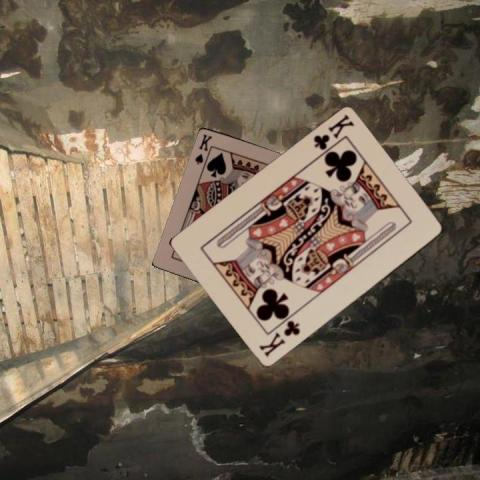Kc: (256, 318, 301, 360), (310, 111, 355, 152)
Ks: (192, 131, 213, 166)
